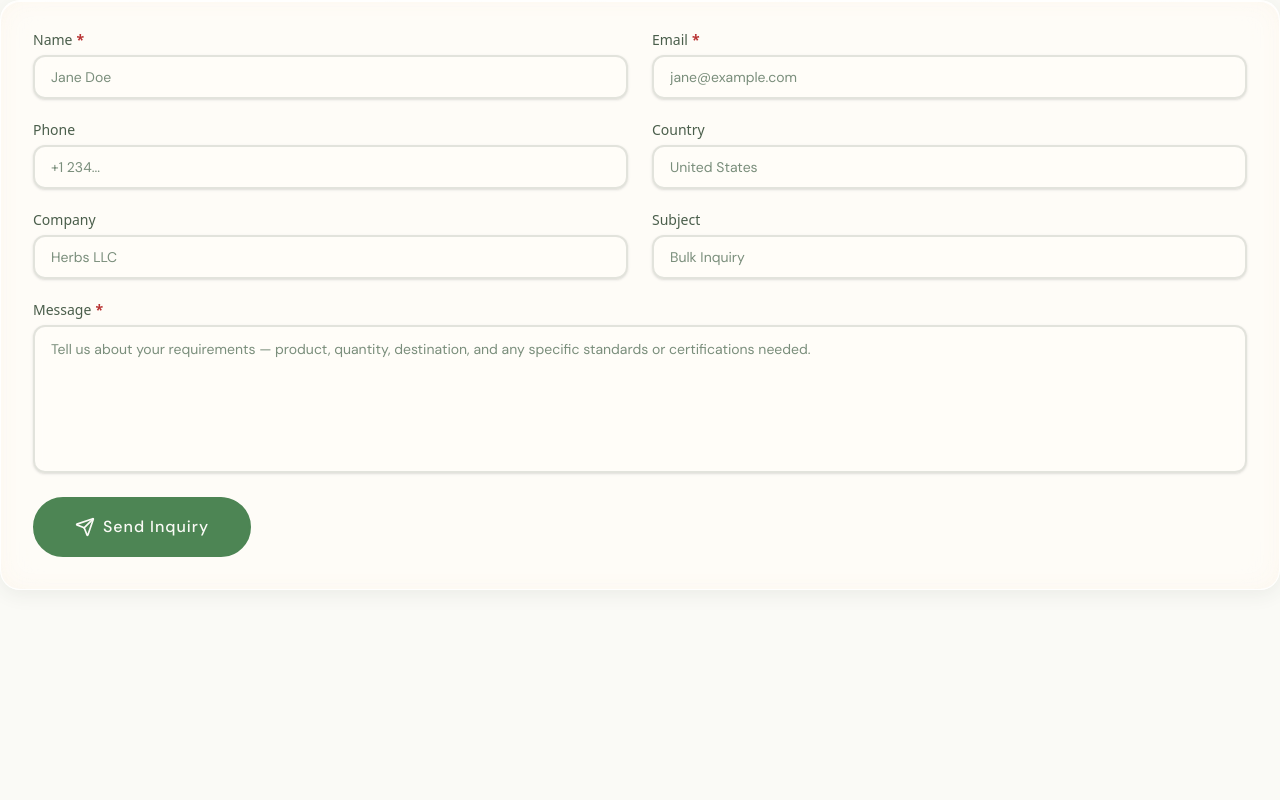
Scenario: ContactForm › validates email format
Step 1. Type "Jane" into the field labelled "Name *" → (330, 77), box [33, 55, 628, 99]
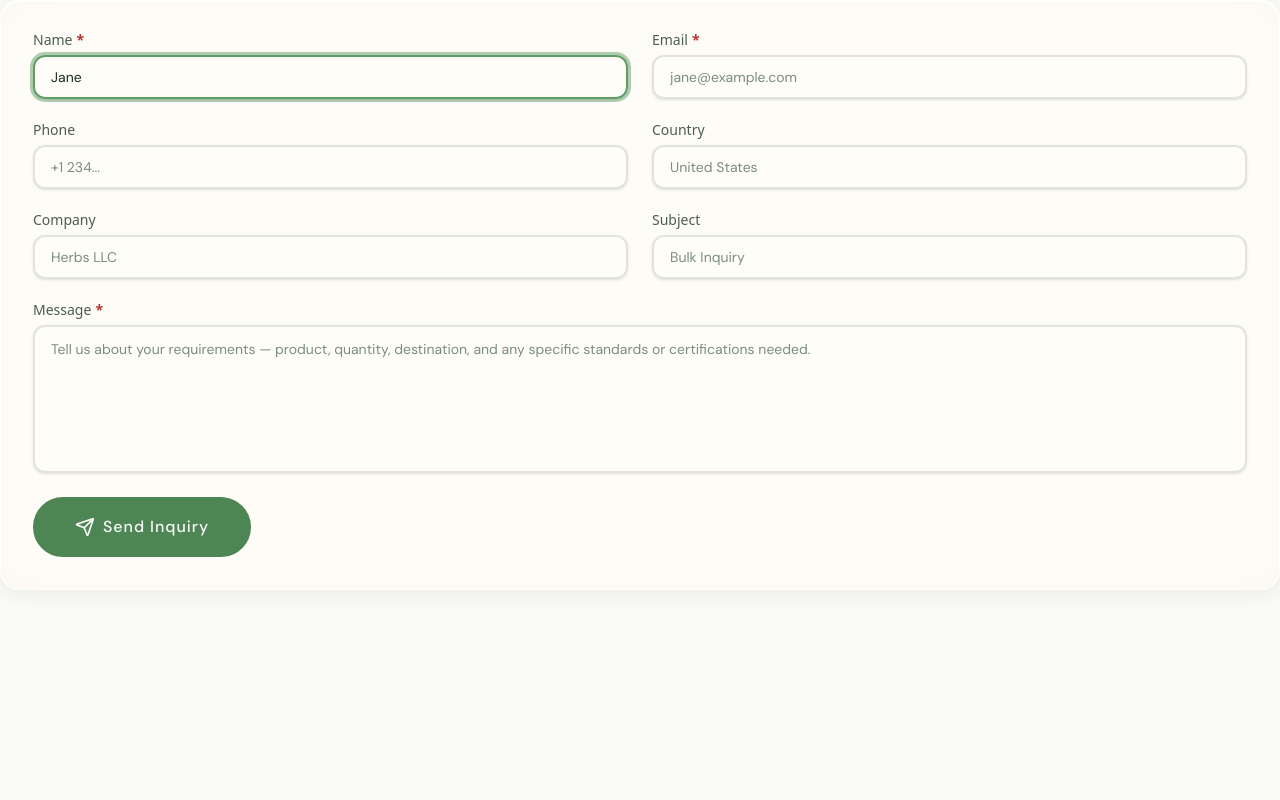
Step 2. Type "test@test" into the field labelled "Email *" → (950, 77), box [652, 55, 1247, 99]
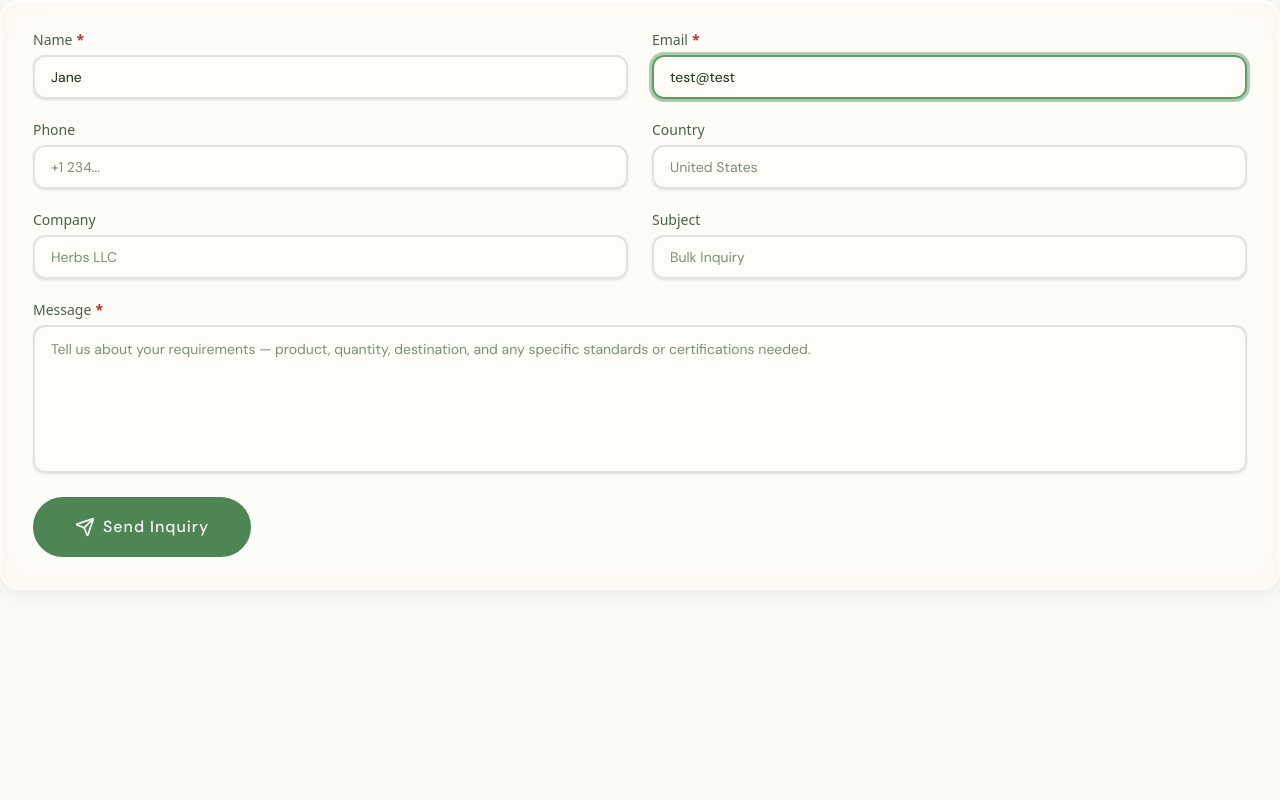
Step 3. Type "Hello" into the text box labelled "Message *" → (640, 399), box [33, 325, 1247, 473]
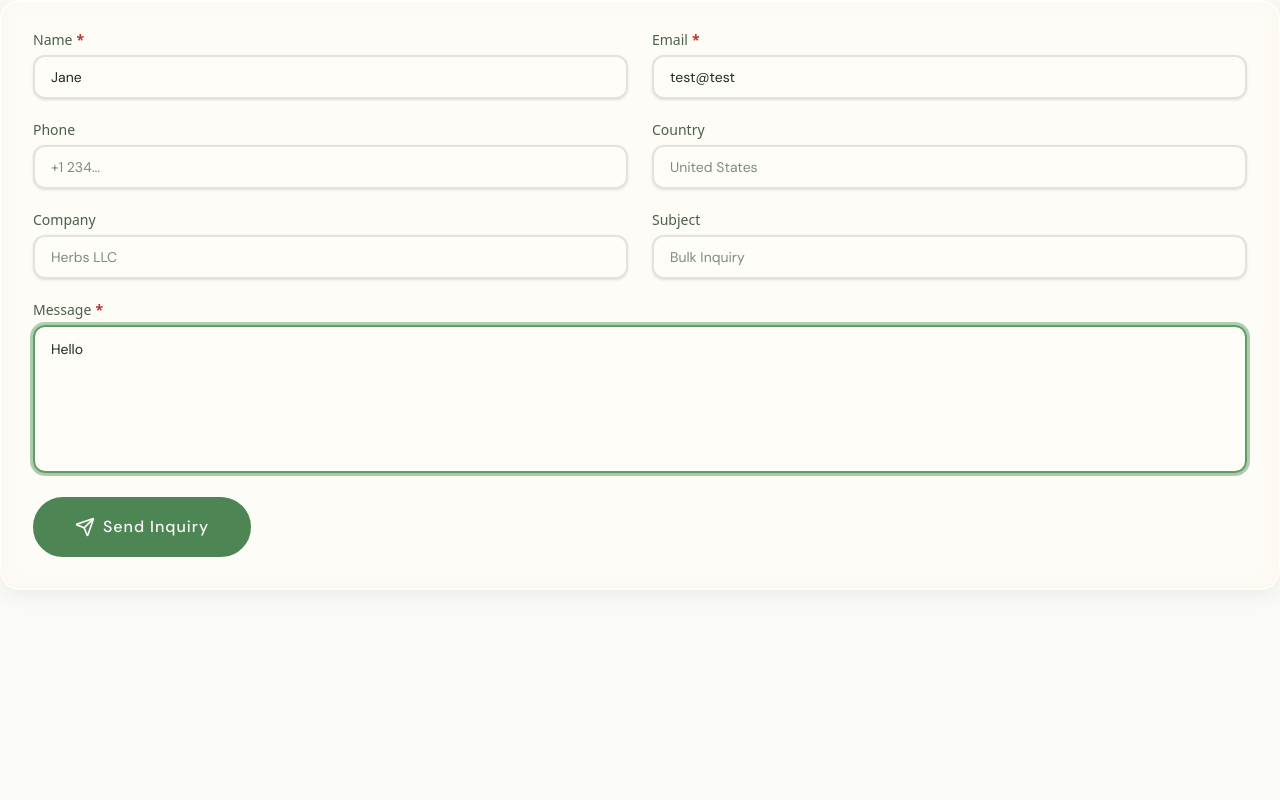
Step 4. Submit the form "Send Inquiry"
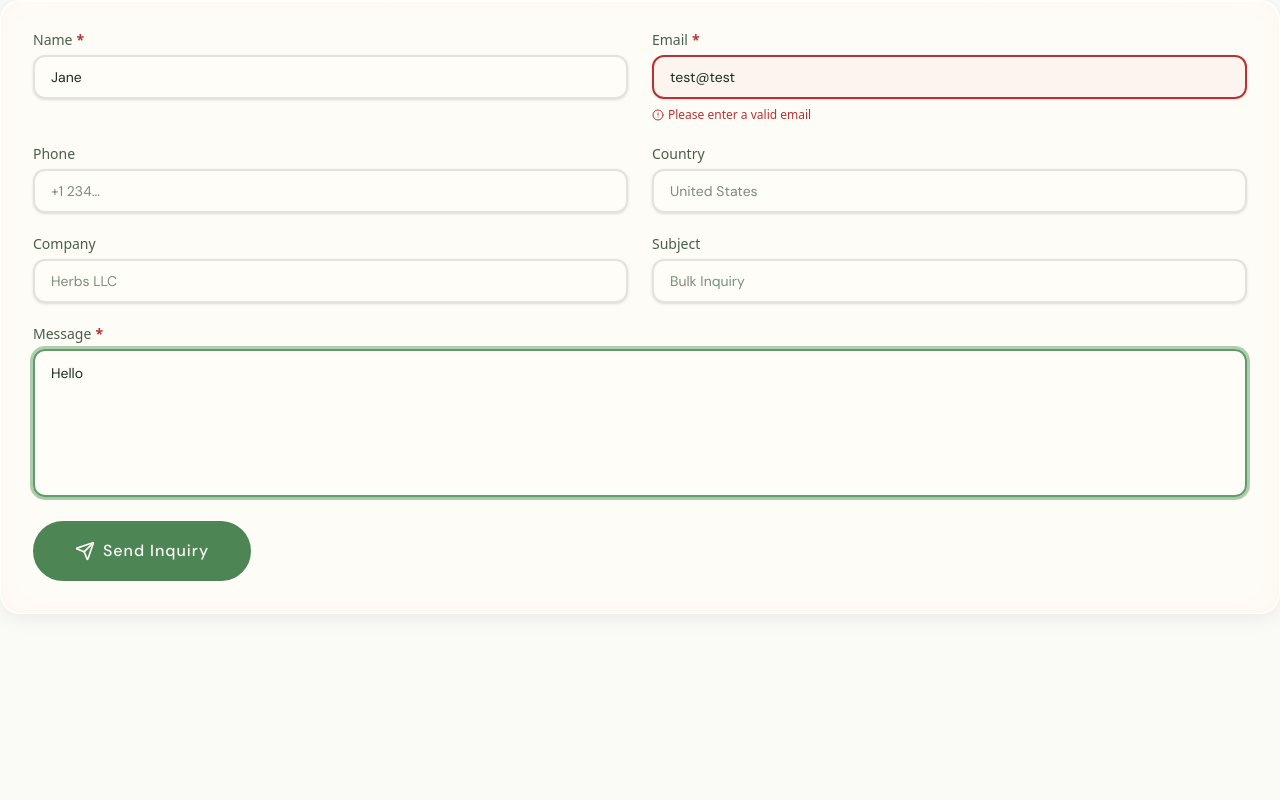
Now the text "Please enter a valid email" is shown, box [652, 106, 811, 123]
